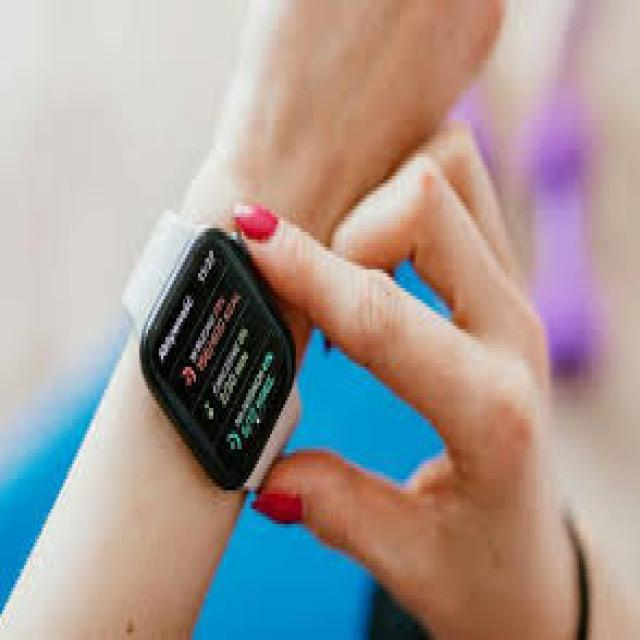objects: (124, 213, 302, 492)
